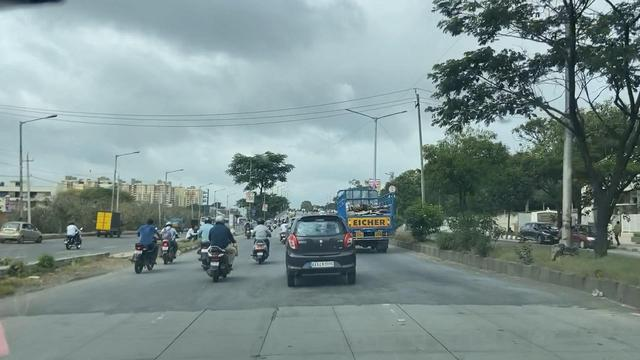LMV: (284, 213, 357, 284), (201, 212, 225, 285), (137, 219, 156, 269), (254, 220, 273, 261)
